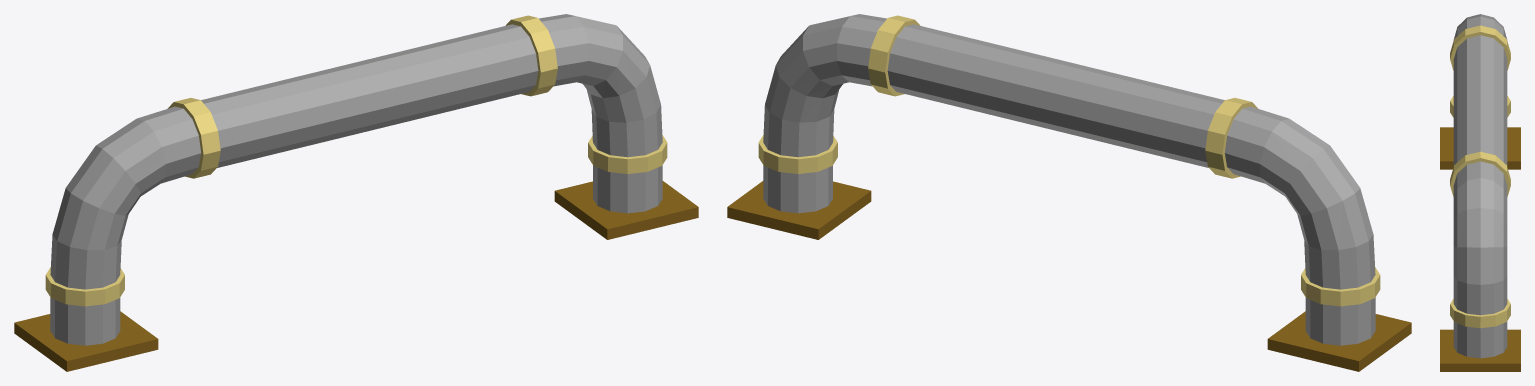
File: tuyau deco.fbx
The picture shows the model from 3 angles, left to right: view 1: azimuth 30°, elevation 25°; view 2: azimuth 150°, elevation 25°; view 3: azimuth 270°, elevation 25°; orthographic projection. The views are drawn at different scales.
Parts seen in each view (by area): view 1: tuyau_deco; view 2: tuyau_deco; view 3: tuyau_deco.
Part boxes in pixels (box(x1,y1,x2,y2)): tuyau_deco: box(14, 14, 698, 371); tuyau_deco: box(727, 14, 1411, 371); tuyau_deco: box(1440, 14, 1520, 371).
Size of the model in its own units: 4.92 by 1.59 by 0.7109.
